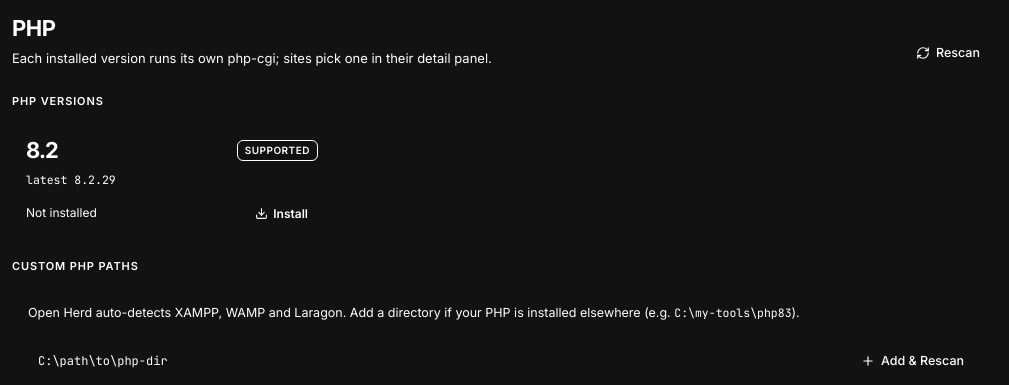
it: Rescan › shows Scanning… while rescan is in progress
Click the button "Rescan" at (948, 52), box [904, 36, 992, 68]
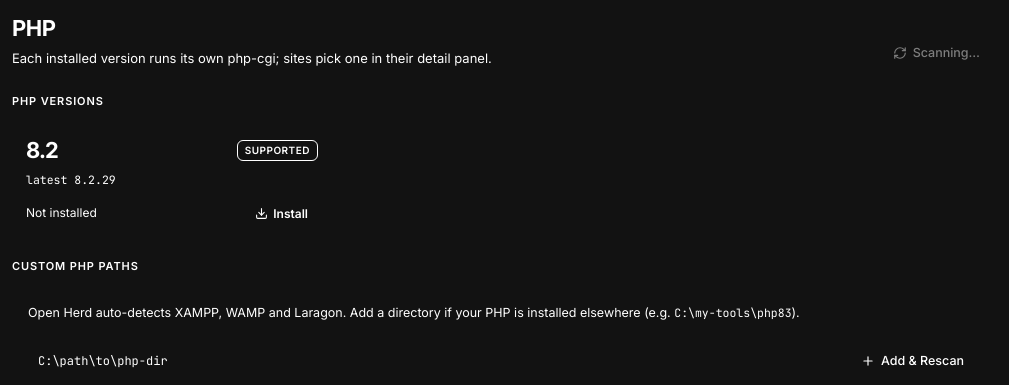
Now the button "Scanning…" is shown, box [881, 36, 992, 68]
